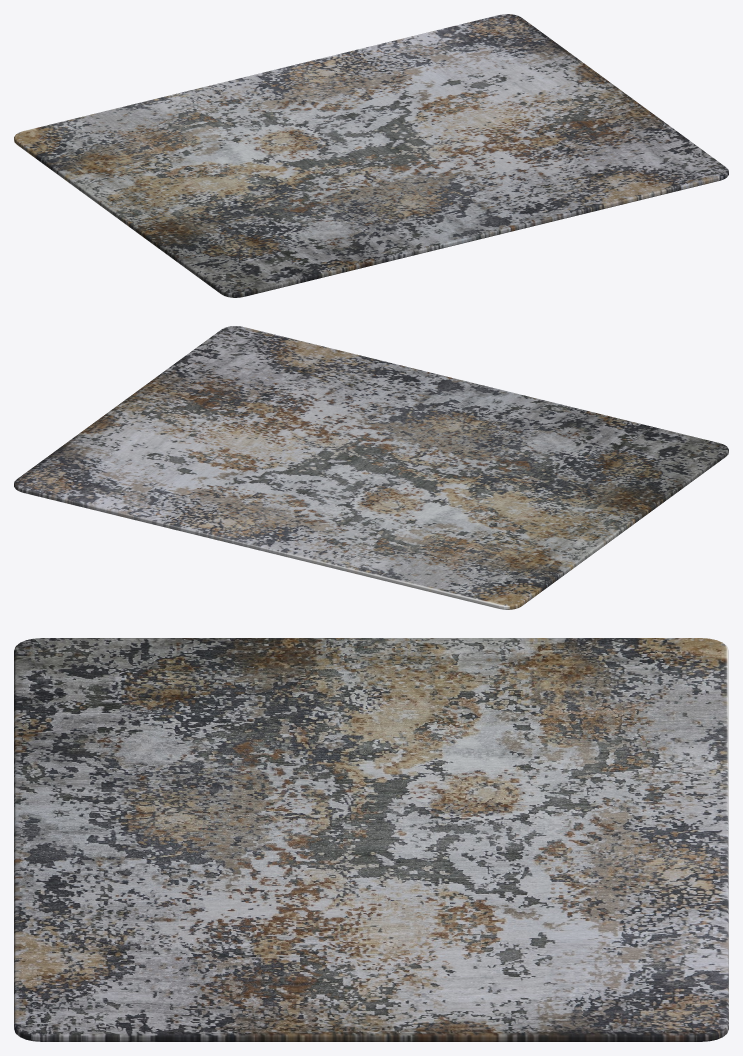
3 renders of one model, top to bottom at view 1: azimuth 30°, elevation 25°; view 2: azimuth 150°, elevation 25°; view 3: azimuth 270°, elevation 25°, orthographic. The views are drawn at different scales.
Parts seen in each view (by area): view 1: Cube; view 2: Cube; view 3: Cube.
Part boxes in pixels (box(x1,y1,x2,y2)): Cube: box(14, 14, 728, 297); Cube: box(14, 326, 728, 609); Cube: box(14, 638, 728, 1041).
Bounding box in the file's own units: 4.56 × 0.04 × 3.46.
Materials: 1 (1 with a texture image).
